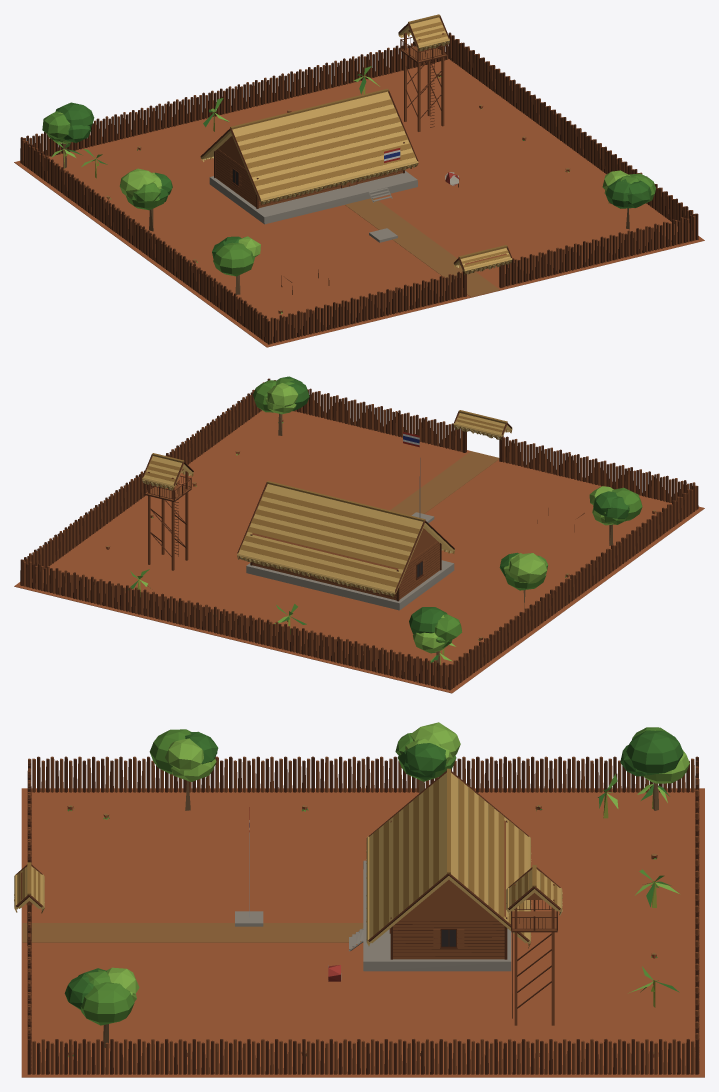
File: police.glb
3 renders of one model, top to bottom at view 1: azimuth 30°, elevation 25°; view 2: azimuth 150°, elevation 25°; view 3: azimuth 270°, elevation 25°, orthographic. The views are drawn at different scales.
Visible parts, largest first — view 1: body; view 2: body; view 3: body.
Part boxes in pixels (x1,y1,x2,y2): body: (14,14,704,347); body: (14,376,704,693); body: (14,722,704,1077).
Size of the model in its own units: 47.9 by 11.36 by 48.43.
